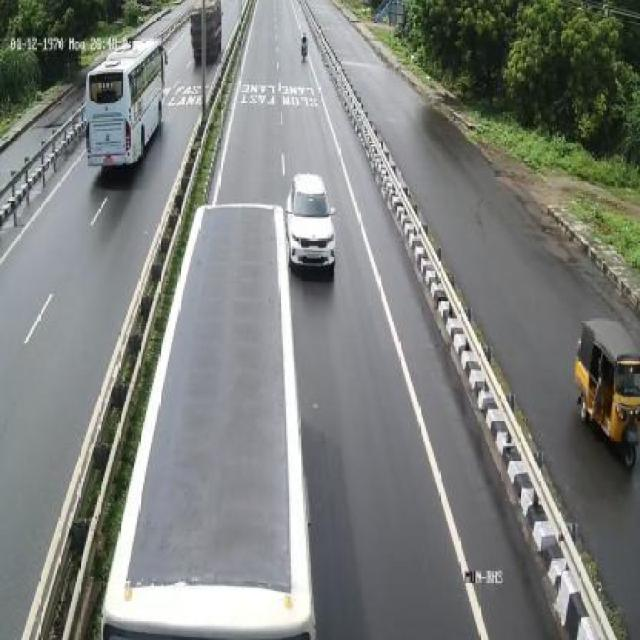car: (286, 169, 339, 285)
